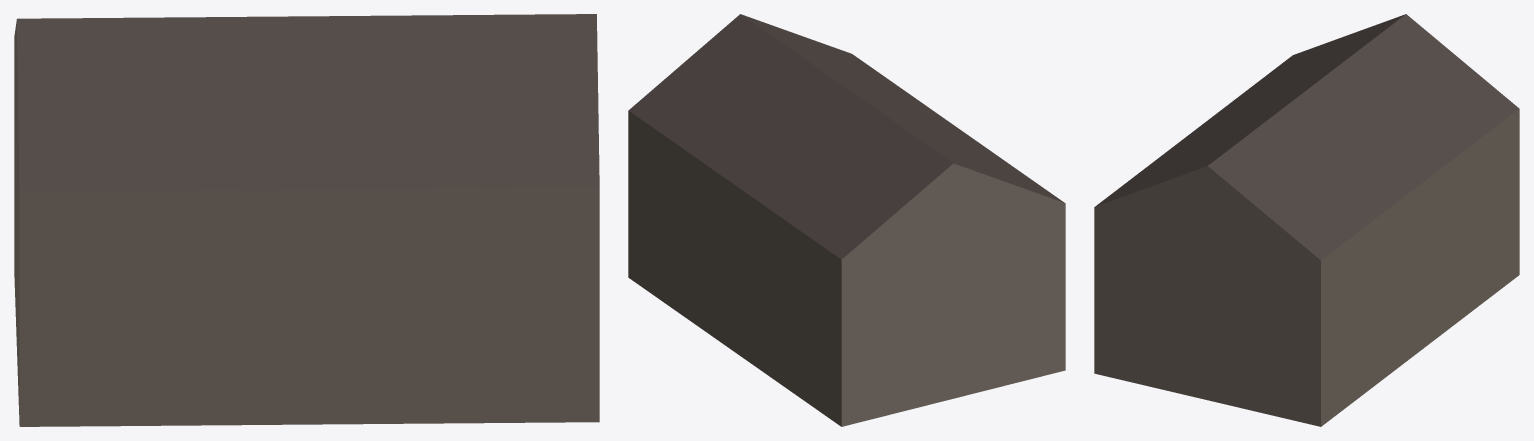
3 renders of one model, left to right at view 1: azimuth 30°, elevation 25°; view 2: azimuth 150°, elevation 25°; view 3: azimuth 270°, elevation 25°, orthographic. The views are drawn at different scales.
Parts seen in each view (by area): view 1: HP-w859457383; view 2: HP-w859457383; view 3: HP-w859457383.
Part boxes in pixels (bbox=[...]): HP-w859457383: bbox=[14, 14, 599, 426]; HP-w859457383: bbox=[628, 14, 1065, 426]; HP-w859457383: bbox=[1094, 14, 1519, 426].
Bounding box in the file's own units: 15.88 × 8.45 × 13.89.
